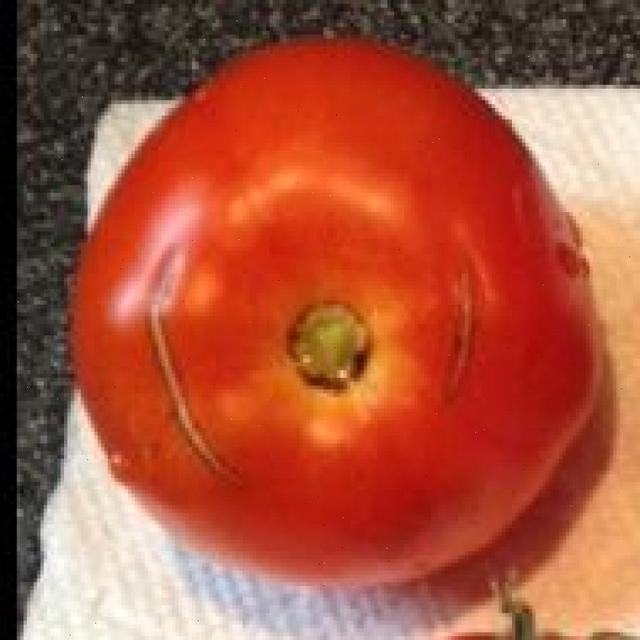Cracking Fruit: (49, 142, 313, 241)
